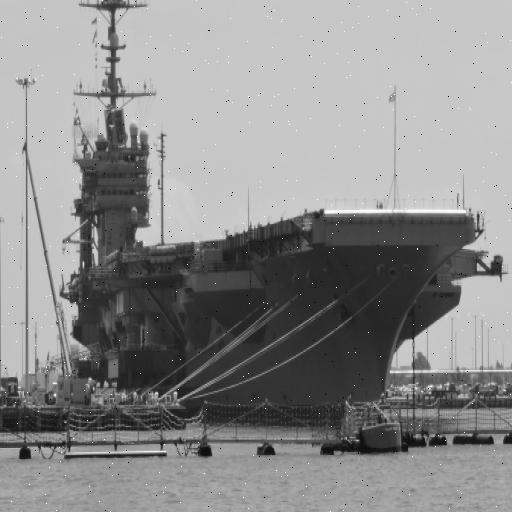Portanaves: (56, 1, 511, 425)
